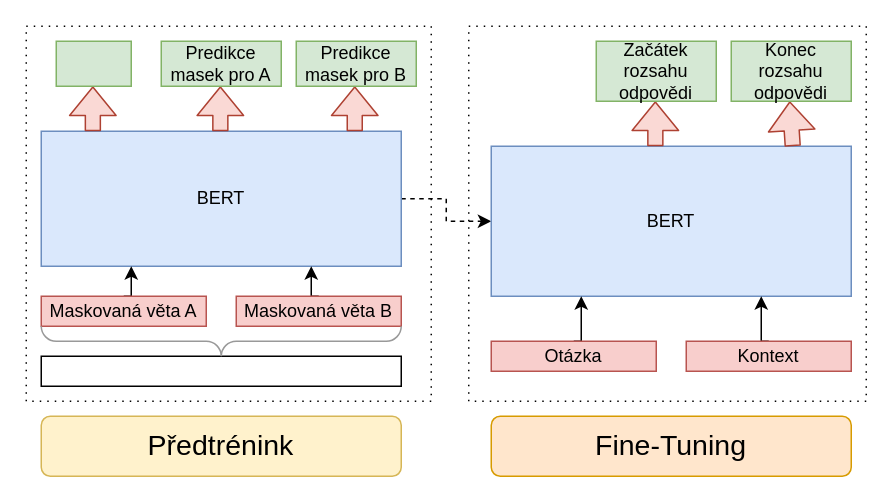
The diagram is 893 pixels wide and 503 high, and some of its shapes have lost their labels. The centre of each missing label's shape, as x and y in pixels:
"Neoznačený pár vět A a B" belongs at (220,370).
"NSP" belongs at (93,63).
